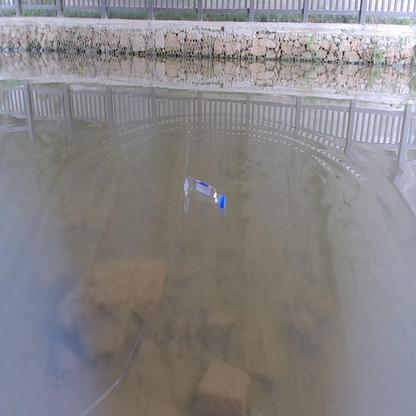plastic bottle: (183, 175, 226, 210)
